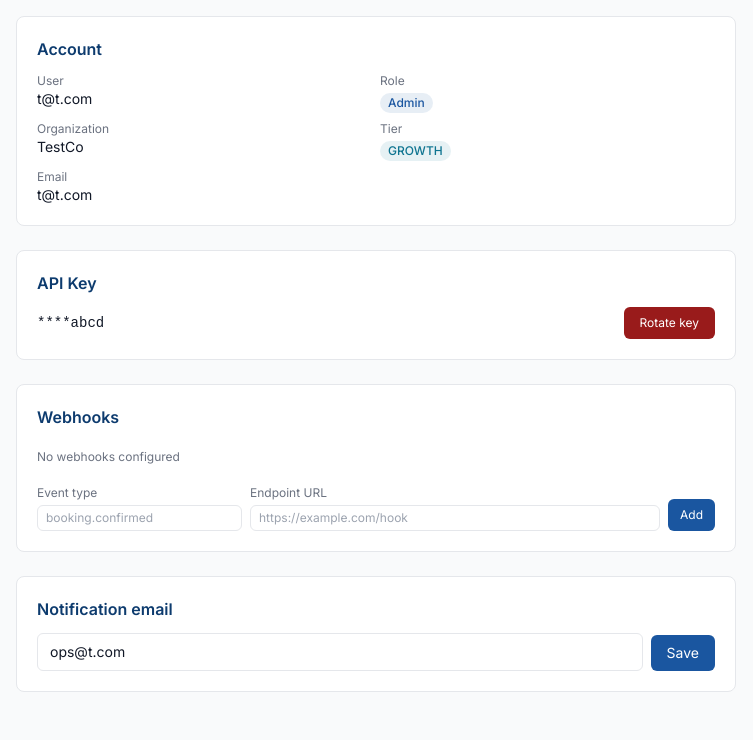
Test: Layer 9: Settings › rotates key and displays new key once
Expected: the text "TestCo" is shown, [37,138,84,155]
What coordinates should you click on to do the following:
click the button "Rotate key"
I would click on:
 (669, 323)
Its box is [624,307,715,339].
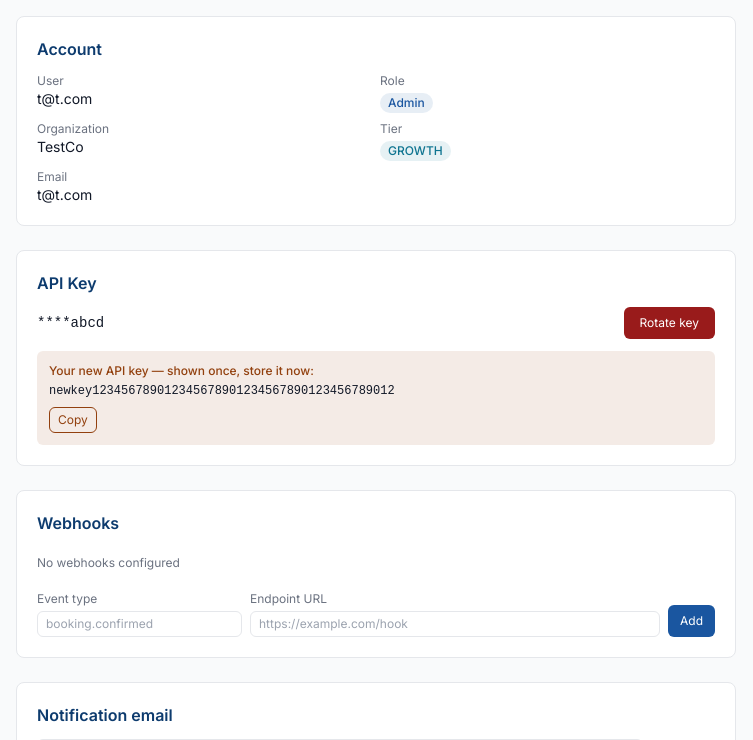
Expected: the text "Your new API key — shown once, store it now:" is shown, [49,363,314,378]
